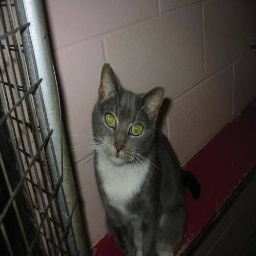cat: (85, 62, 201, 256)
